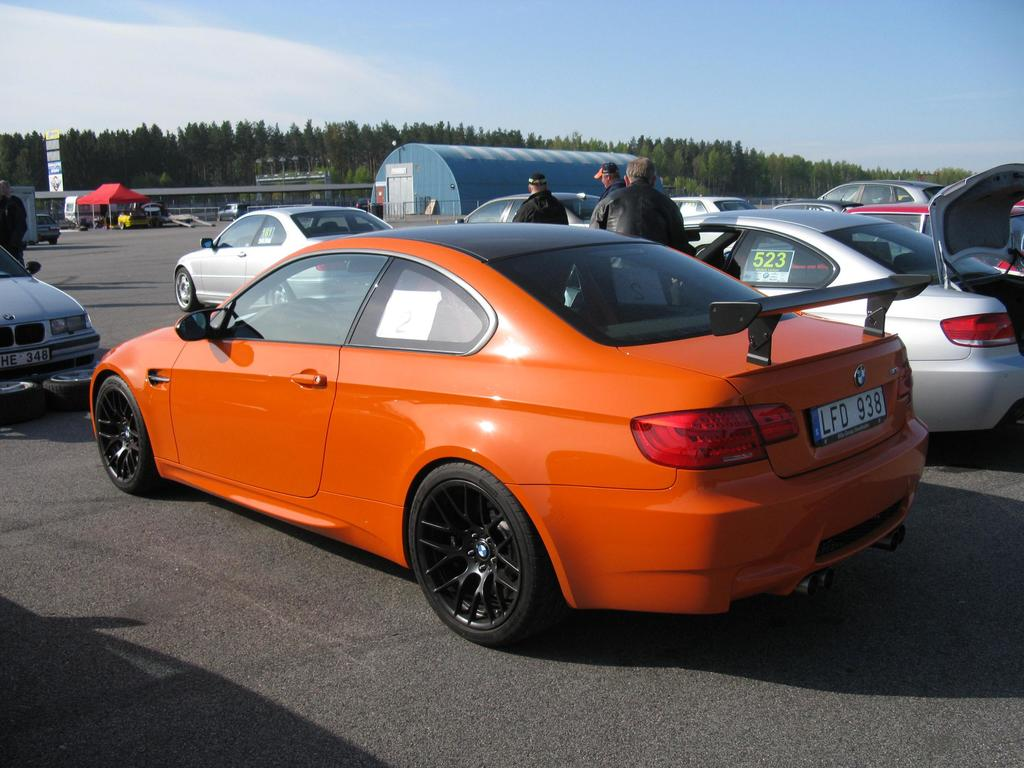license plate: (805, 406, 891, 442)
